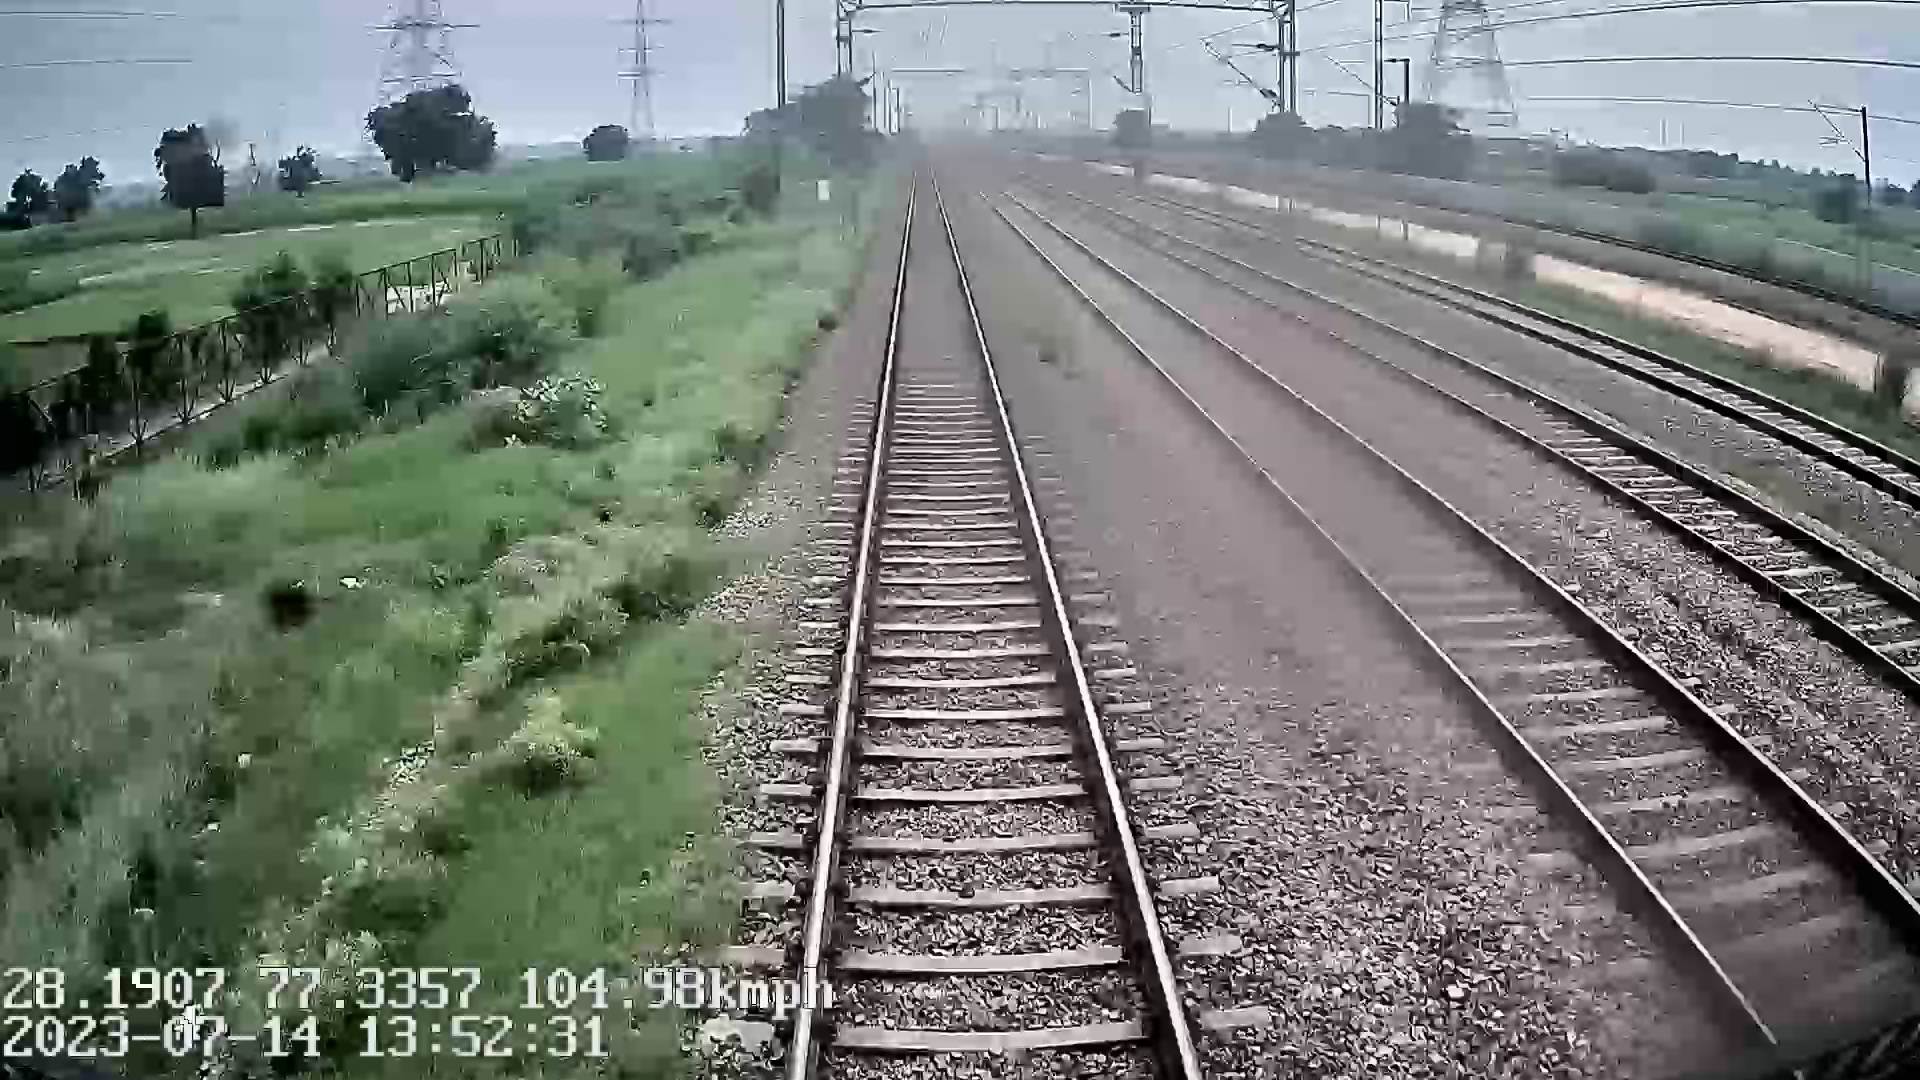track1: (796, 181, 1191, 1068)
track2: (980, 190, 1919, 1011)
track3: (1156, 235, 1919, 666)
track4: (1300, 245, 1916, 492)
